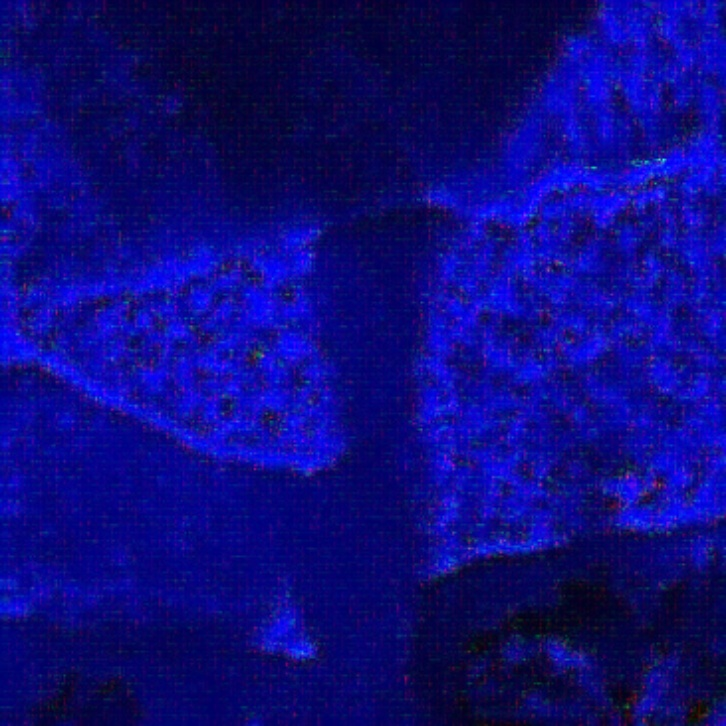rip_current: (251, 214, 481, 551)
